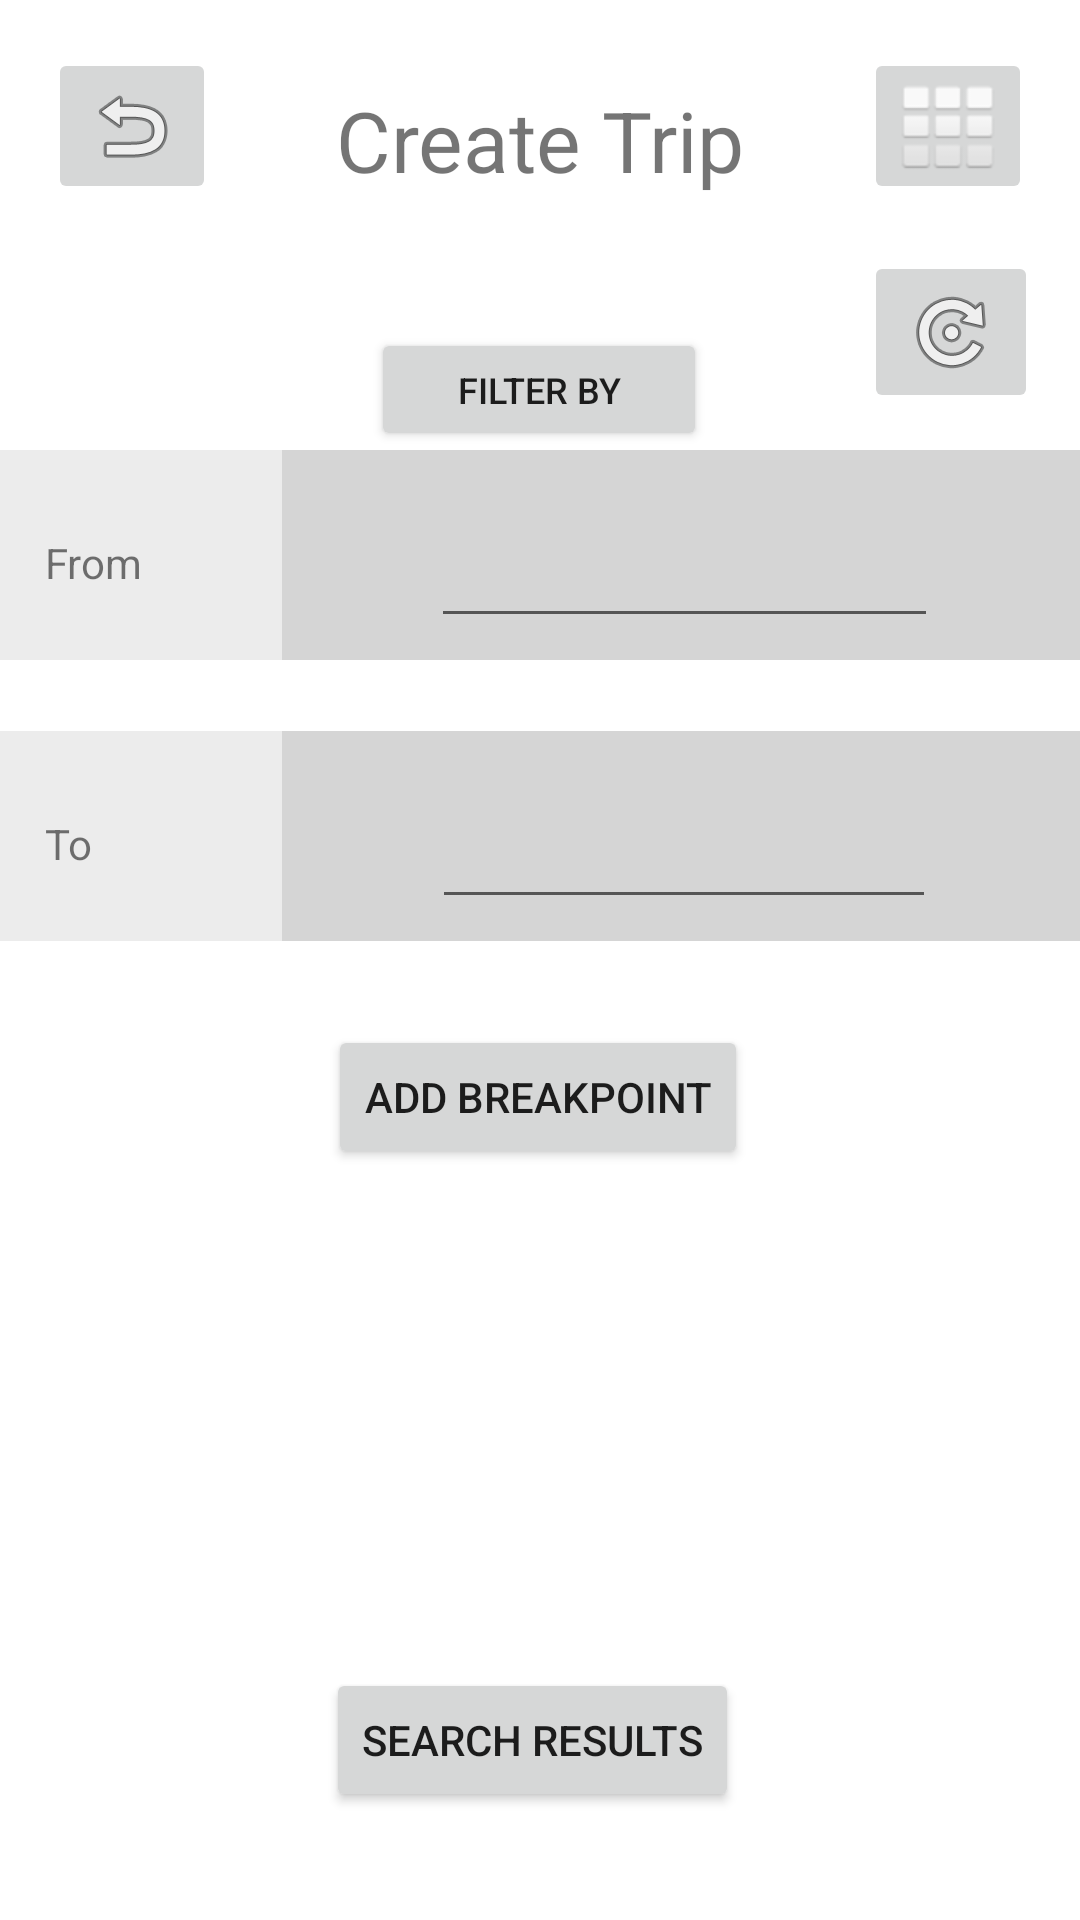

Icon click points for this 1080 × 1920 phone screenshot, format (x=x, y=y):
dialer: (x=948, y=126)
revert: (x=132, y=126)
rotate: (x=951, y=332)
